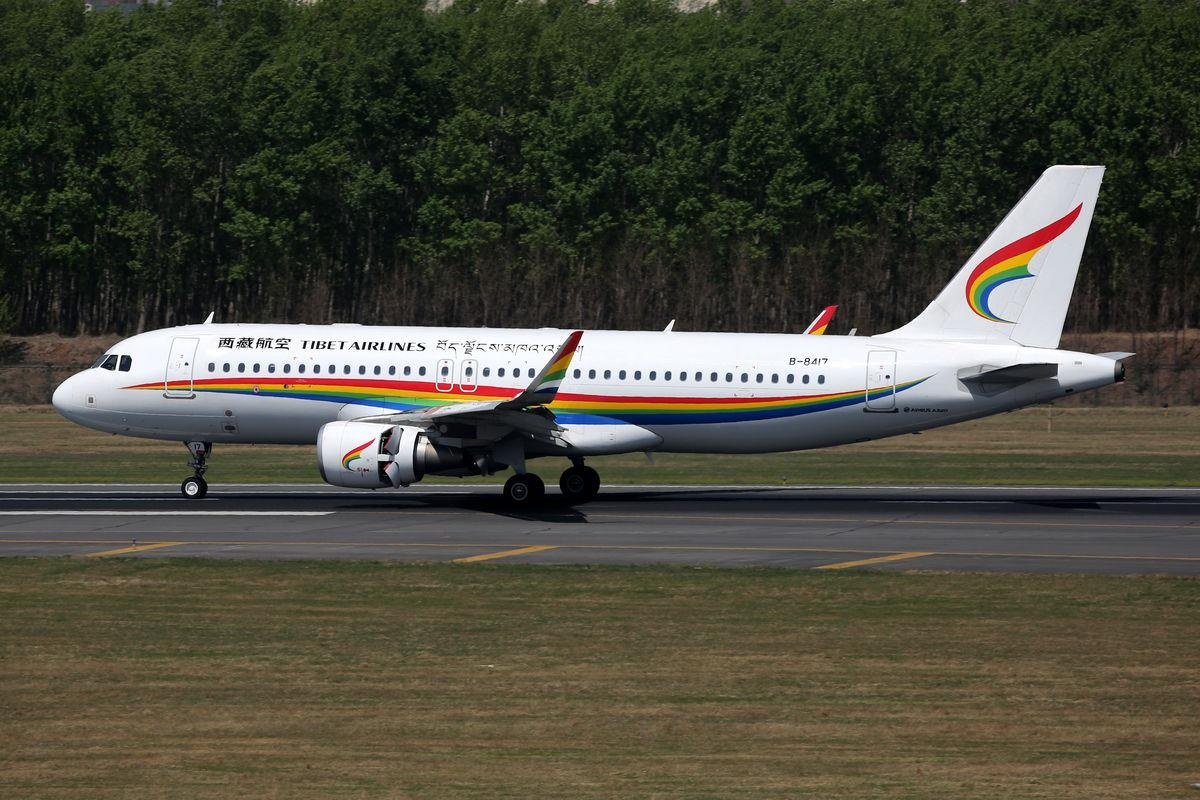airplane: (46, 152, 1148, 507)
